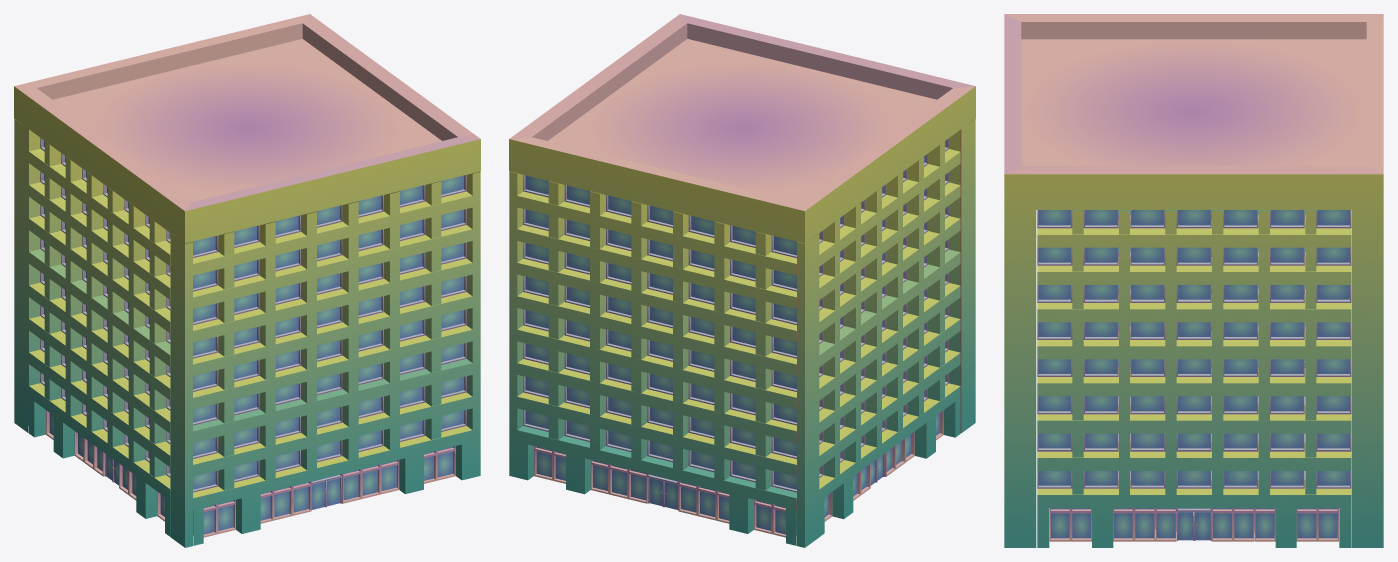
The picture shows the model from 3 angles, left to right: view 1: azimuth 30°, elevation 25°; view 2: azimuth 150°, elevation 25°; view 3: azimuth 270°, elevation 25°; orthographic projection. The views are drawn at different scales.
Visible parts, largest first — view 1: SM_9FS_01; view 2: SM_9FS_01; view 3: SM_9FS_01.
Part boxes in pixels (x1=…): SM_9FS_01: x1=14, y1=14, x2=480, y2=547; SM_9FS_01: x1=509, y1=14, x2=975, y2=547; SM_9FS_01: x1=1004, y1=14, x2=1383, y2=547.
Size of the model in its own units: 28.05 by 28.05 by 30.51.
